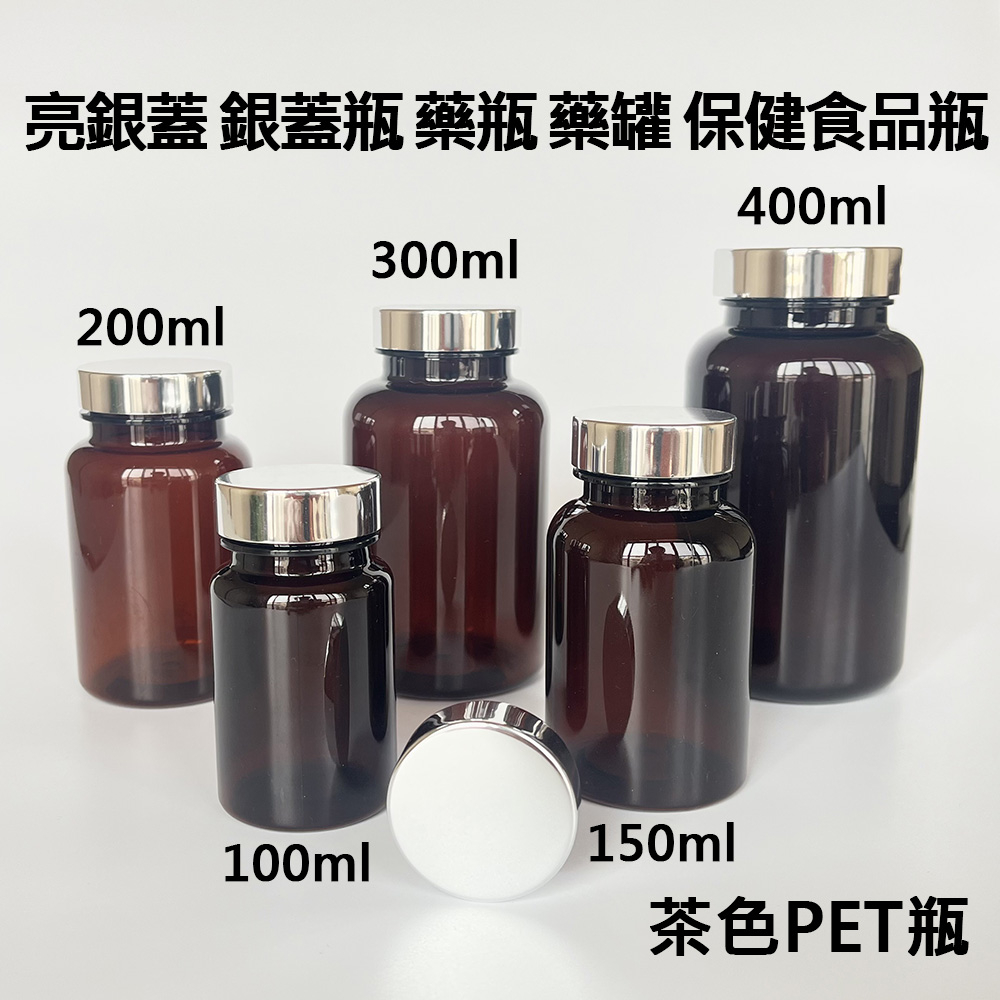medicinejar: (702, 233, 931, 713), (346, 303, 549, 707), (546, 407, 747, 810), (197, 472, 407, 825), (62, 360, 267, 710)
